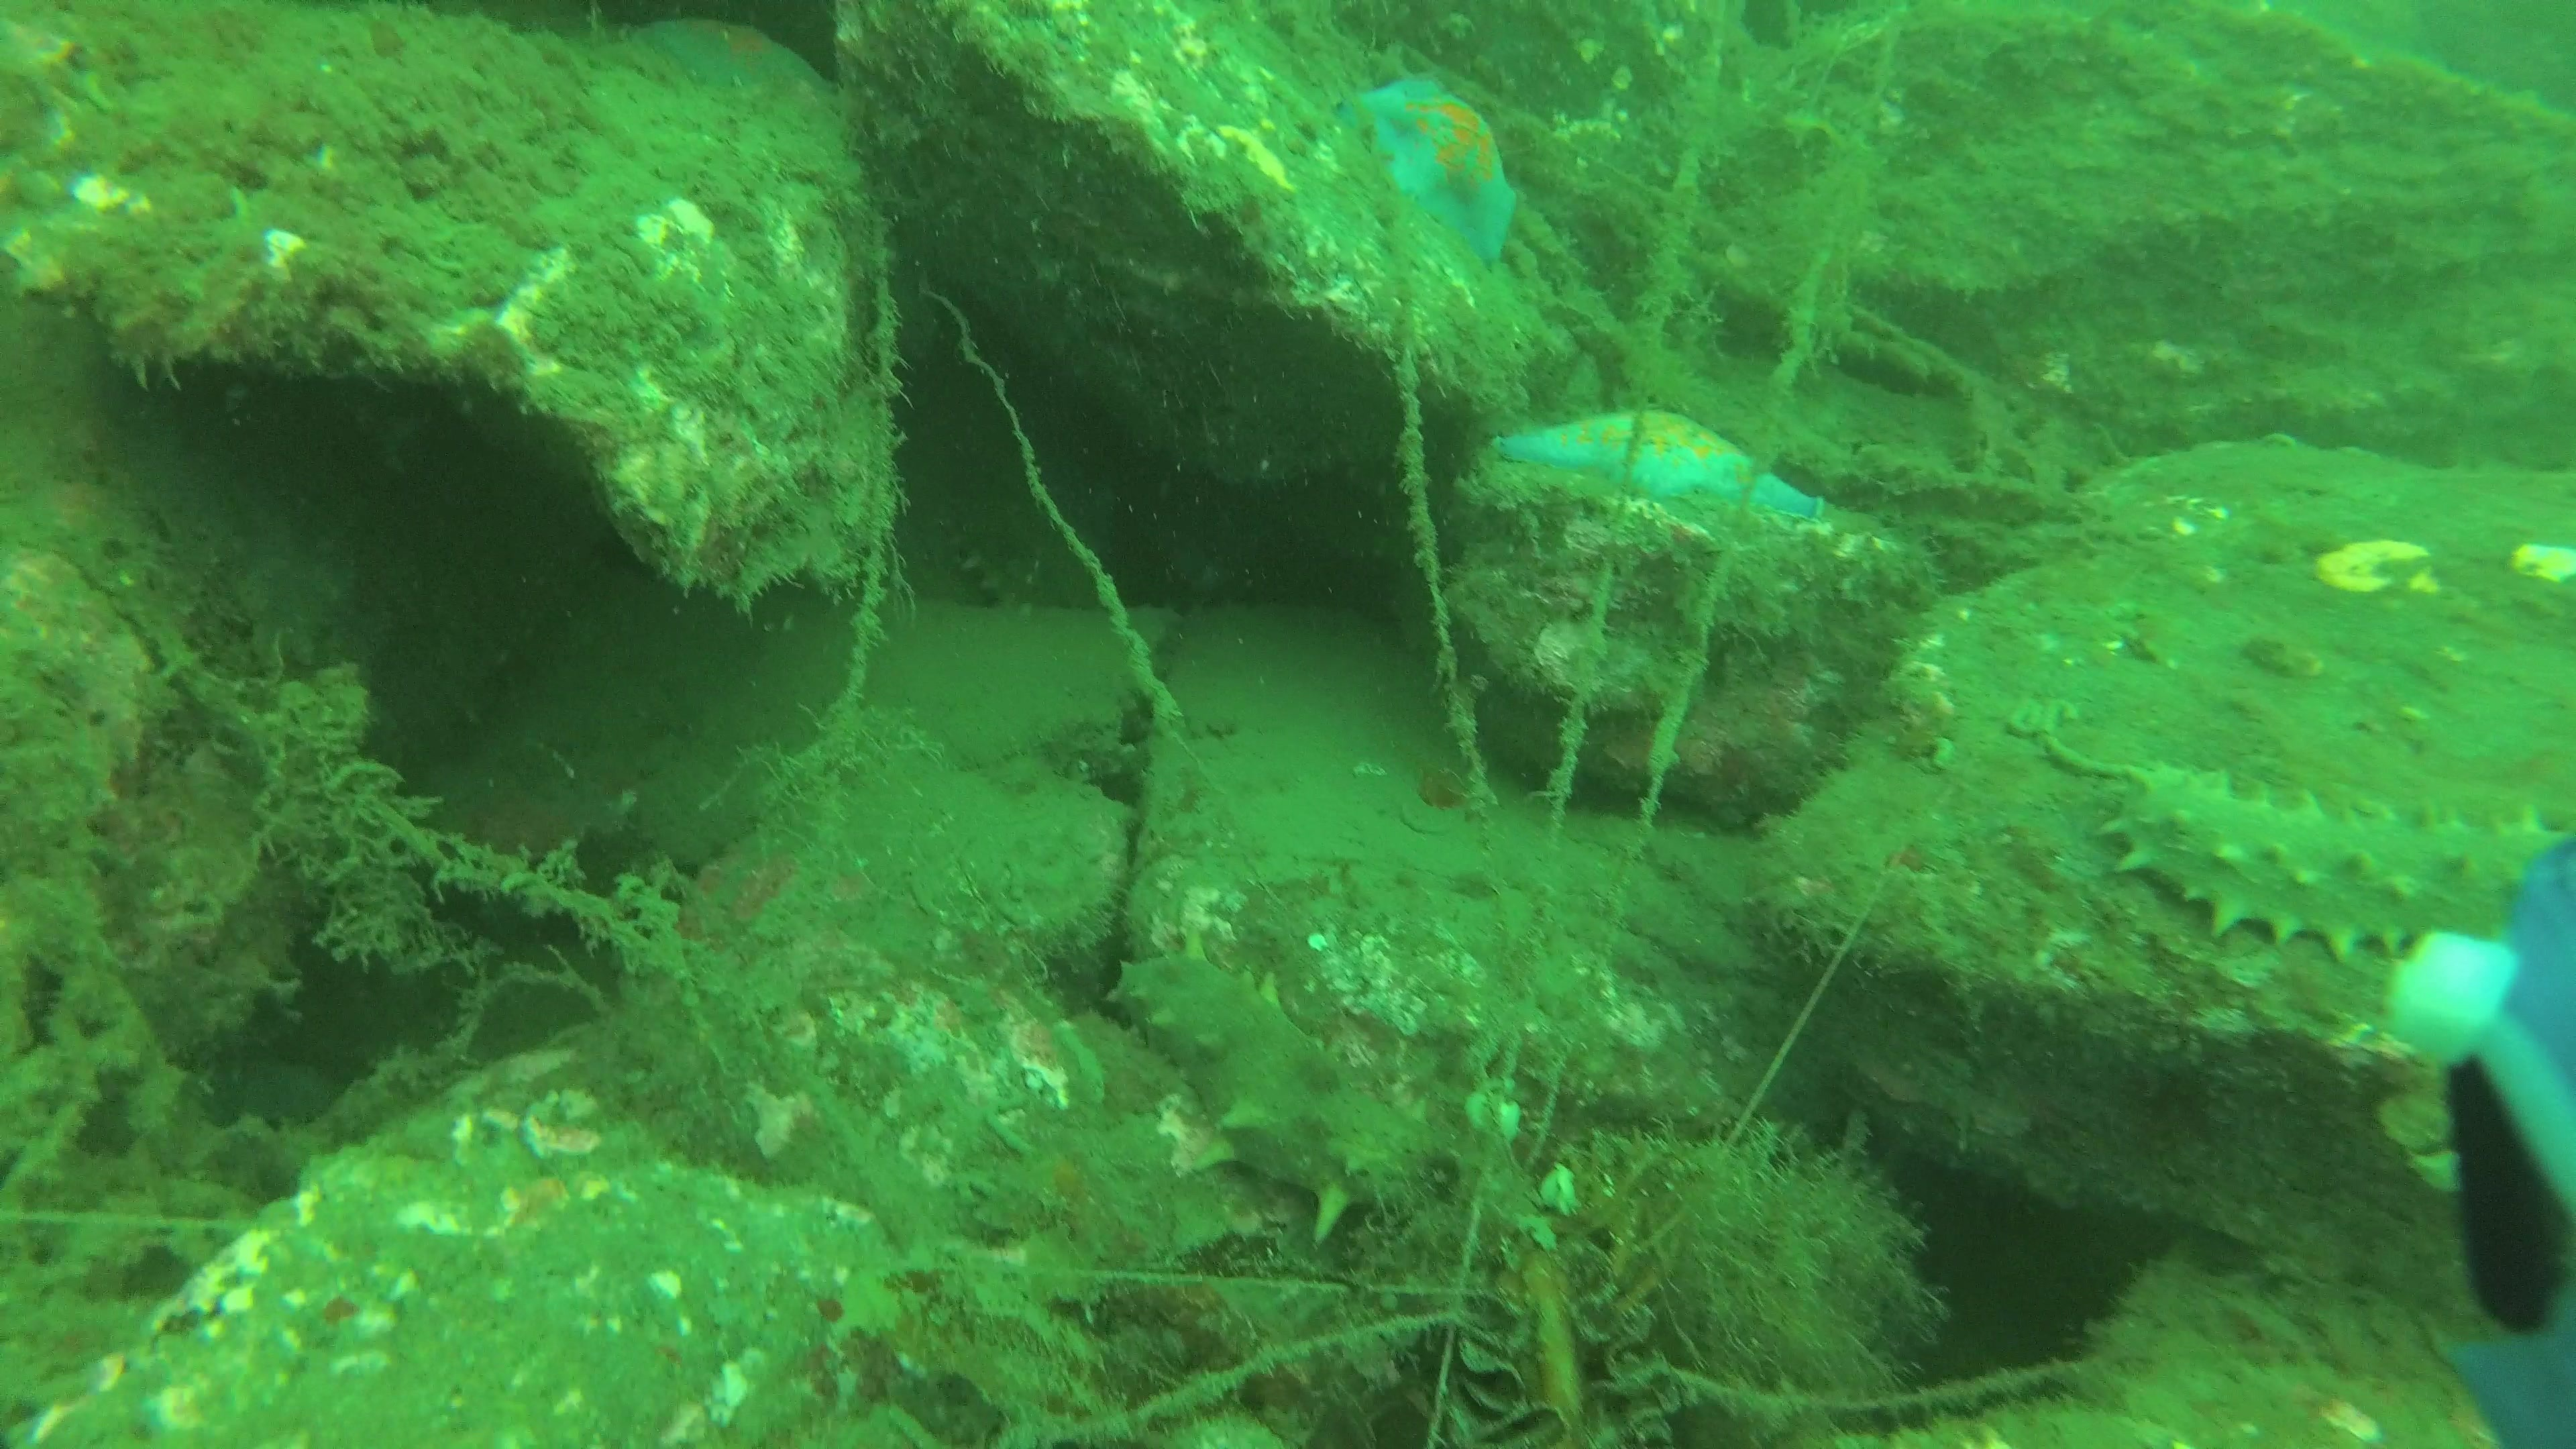holothurian: (1108, 938, 1447, 1244), (2097, 755, 2567, 970)
starfish: (1491, 405, 1835, 534), (1345, 65, 1527, 272)
